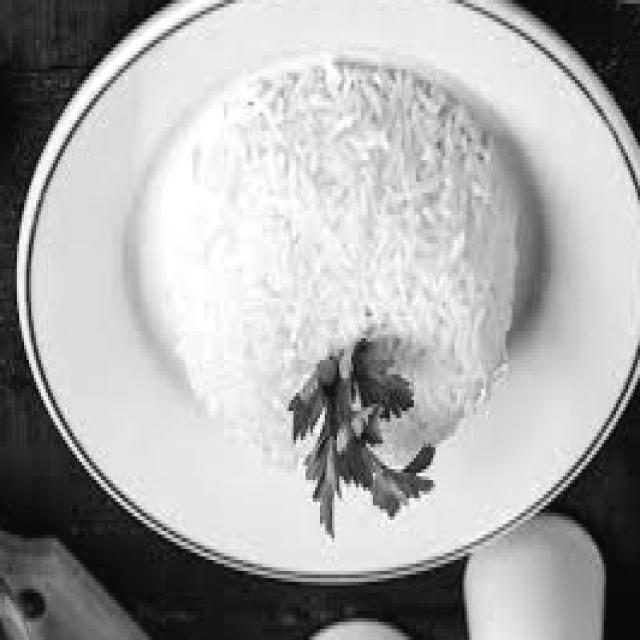nasi: (160, 76, 525, 470)
